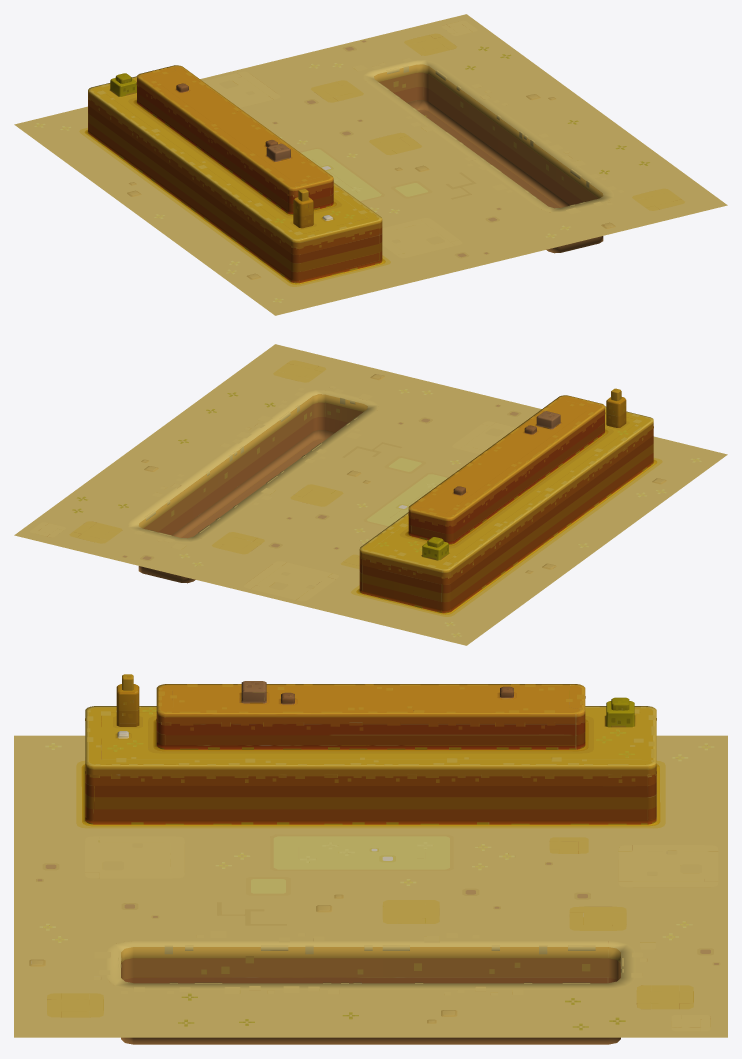
Rendered from C_mountain1_03.fbx.
3 renders of one model, top to bottom at view 1: azimuth 30°, elevation 25°; view 2: azimuth 150°, elevation 25°; view 3: azimuth 270°, elevation 25°, orthographic. The views are drawn at different scales.
Visible parts, largest first — view 1: C_mountain1_03; view 2: C_mountain1_03; view 3: C_mountain1_03.
Part boxes in pixels (x1,y1,x2,y2): C_mountain1_03: (14,14,727,315); C_mountain1_03: (14,344,727,645); C_mountain1_03: (14,674,727,1044).
Bounding box in the file's own units: 50 × 13.34 × 50.
